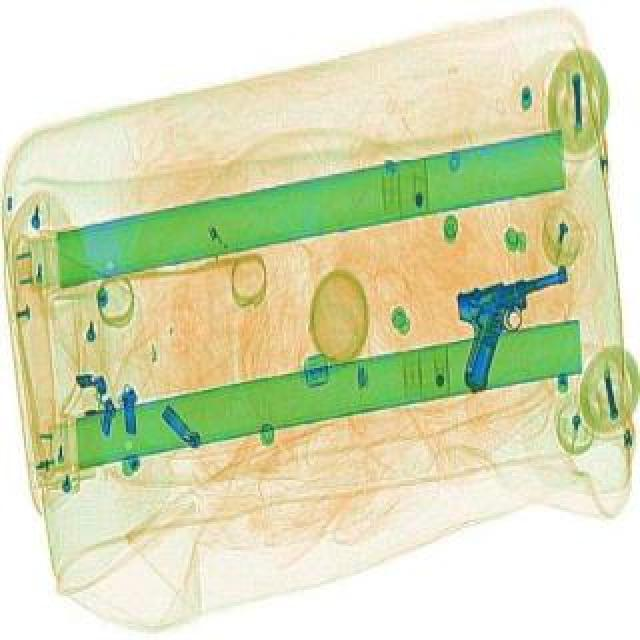gun: (444, 268, 592, 392)
